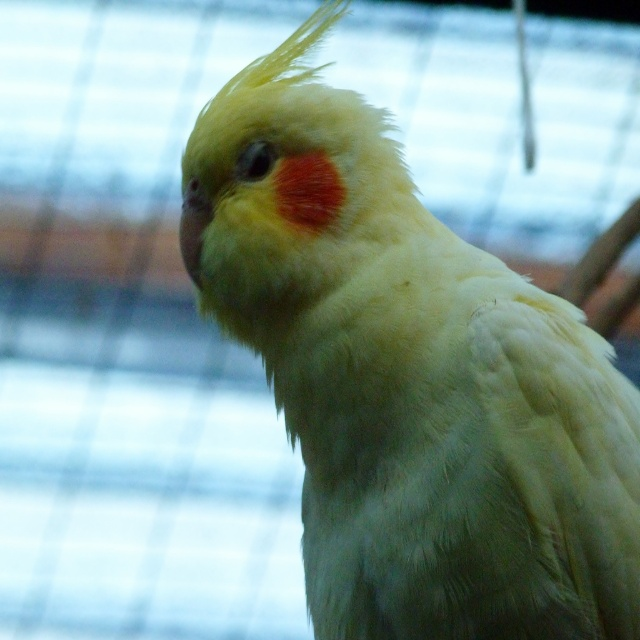Parrot: (177, 0, 638, 639)
